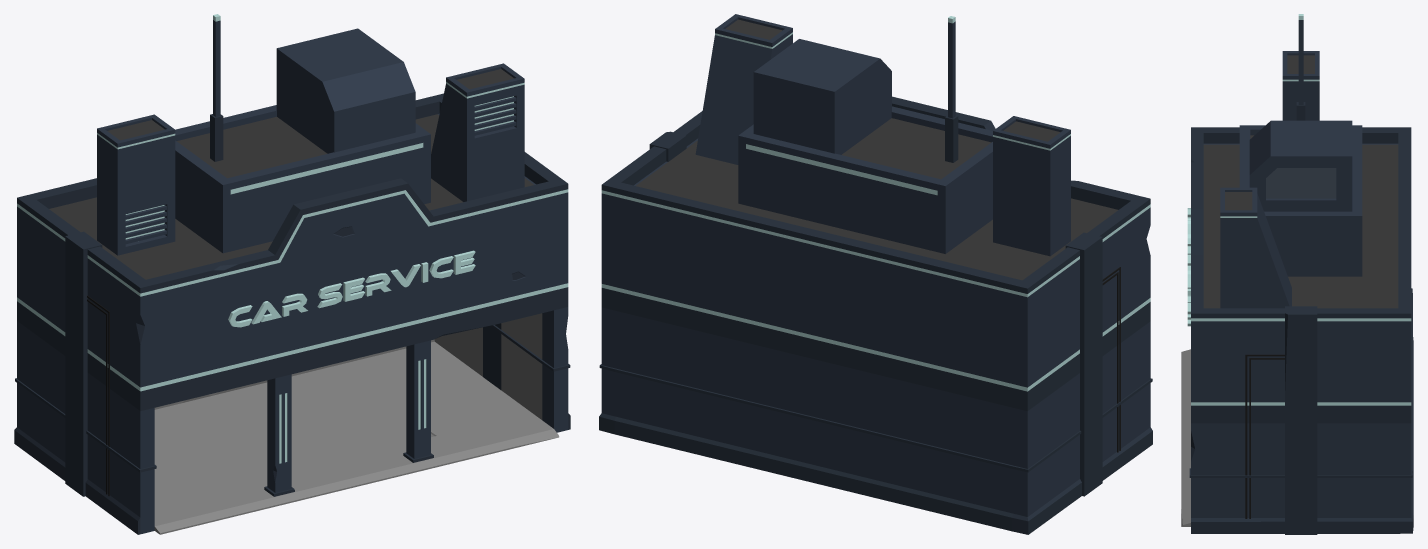
File: SM_Building_06.fbx
The picture shows the model from 3 angles, left to right: view 1: azimuth 30°, elevation 25°; view 2: azimuth 150°, elevation 25°; view 3: azimuth 270°, elevation 25°; orthographic projection. The views are drawn at different scales.
Parts seen in each view (by area): view 1: SM_Building_06; view 2: SM_Building_06; view 3: SM_Building_06.
Boxes of the visible parts, x1,y1,x2,y2 form: SM_Building_06: (14,14,570,534); SM_Building_06: (599,14,1152,534); SM_Building_06: (1181,14,1413,534).
Size of the model in its own units: 1020 by 982 by 527.
